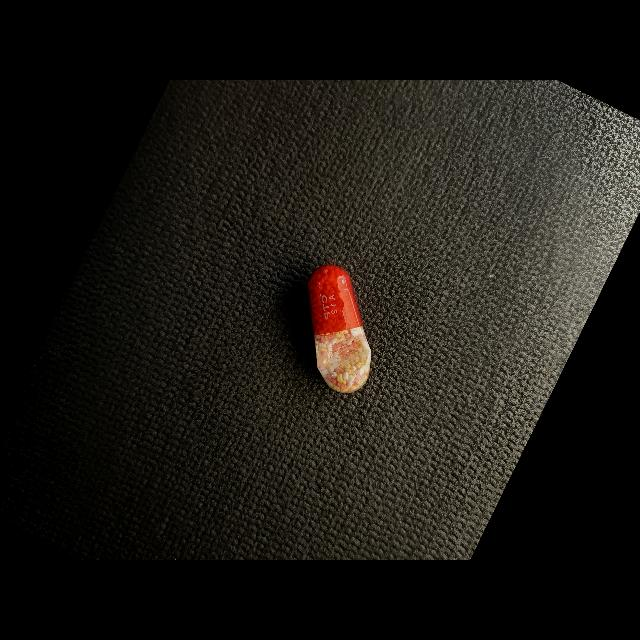Defective Capsule: (307, 265, 371, 393)
